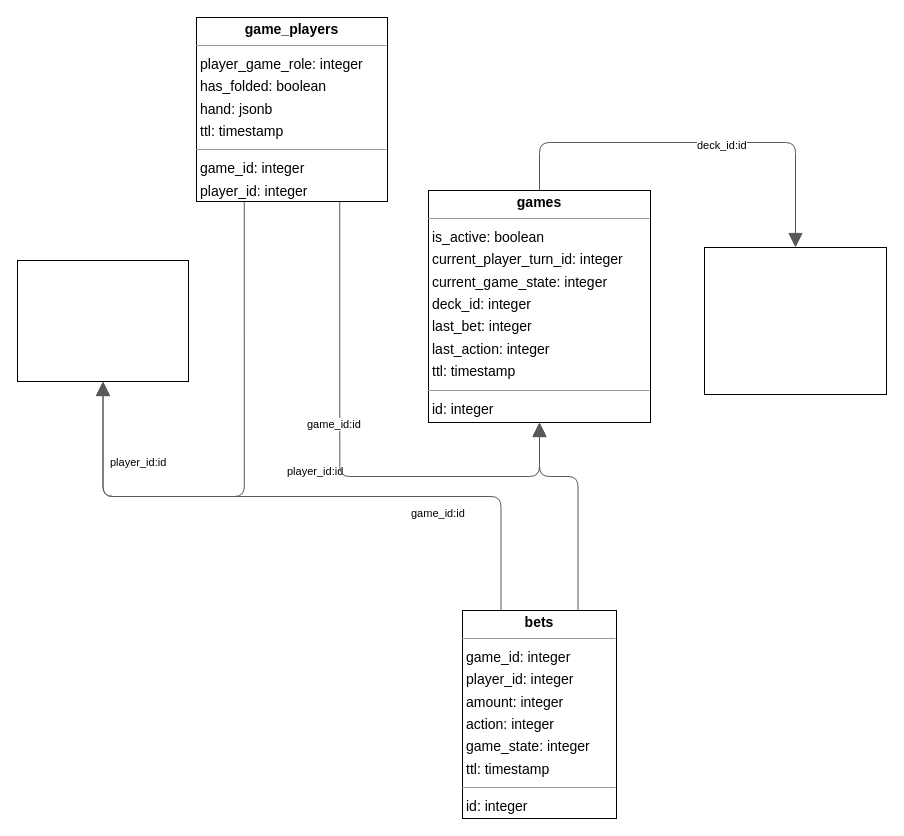
This 904x836 diagram has some shape labels left out. The shapes that lost their labels are listed below. From the top down, each one's box as (x1, y1, x2, y2) in pixels, then its label:
(16, 260, 188, 382): players username: varchar(50) chips: integer id: integer
(704, 246, 886, 394): decks dealt_cards: jsonb community_cards: jsonb ttl: timestamp id: integer
